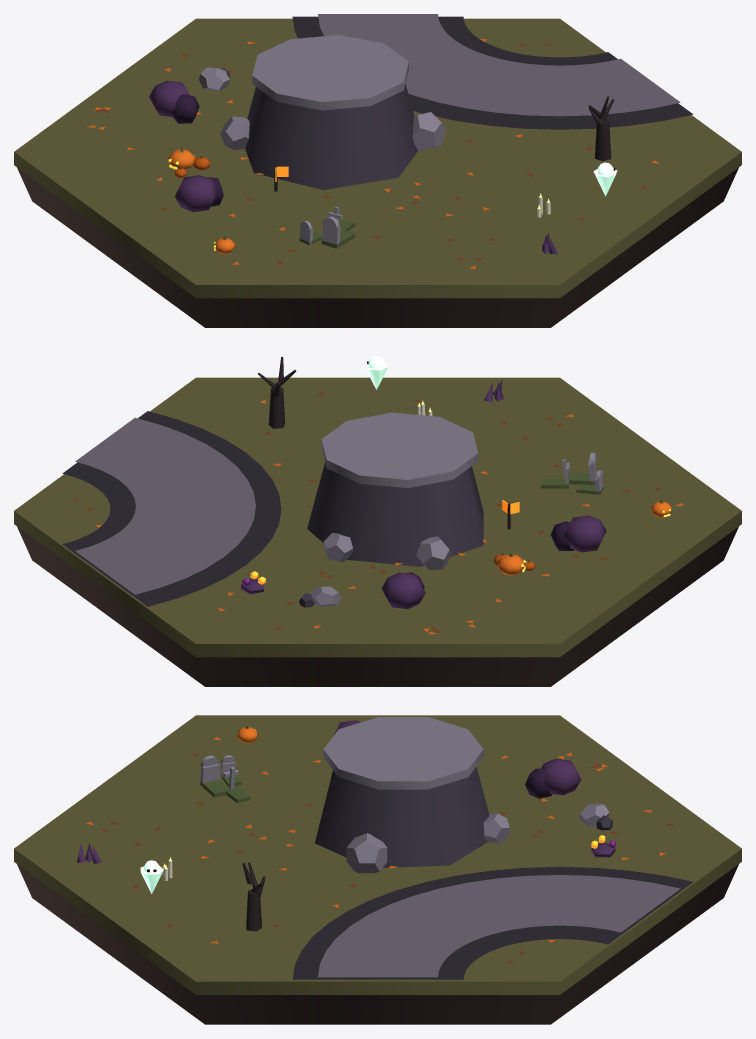
Rendered from tile_warBend.glb.
3 renders of one model, top to bottom at view 1: azimuth 30°, elevation 25°; view 2: azimuth 150°, elevation 25°; view 3: azimuth 270°, elevation 25°, orthographic.
Visible parts, largest first — view 1: ground, road, ground_soil, tower_slot_1_outcrop, tower_slot_1_plate, tower_slot_1, deco_bush_0_a, deco_bush_5_a, deco_bush_5_b, deco_tree_3_trunk, deco_stone_2_a; view 2: ground, road, ground_soil, tower_slot_1_outcrop, tower_slot_1_plate, tower_slot_1, deco_bush_5_a, deco_bush_0_a, deco_tree_3_trunk; view 3: ground, road, ground_soil, tower_slot_1_outcrop, tower_slot_1_plate, tower_slot_1, deco_bush_5_a, deco_tree_3_trunk, deco_bush_5_b.
Part boxes in pixels (x1,y1,x2,y2): ground: [14, 18, 741, 298]; road: [292, 14, 693, 129]; ground_soil: [17, 167, 738, 327]; tower_slot_1_outcrop: [245, 83, 418, 189]; tower_slot_1_plate: [252, 35, 408, 110]; tower_slot_1: [220, 112, 445, 150]; deco_bush_0_a: [174, 175, 217, 212]; deco_bush_5_a: [149, 80, 189, 116]; deco_bush_5_b: [172, 94, 199, 123]; deco_tree_3_trunk: [594, 119, 611, 161]; deco_stone_2_a: [199, 67, 229, 90]; ground: [14, 377, 741, 657]; road: [62, 411, 281, 606]; ground_soil: [17, 526, 738, 686]; tower_slot_1_outcrop: [307, 462, 483, 566]; tower_slot_1_plate: [321, 412, 478, 487]; tower_slot_1: [323, 533, 451, 569]; deco_bush_5_a: [381, 572, 425, 608]; deco_bush_0_a: [563, 515, 606, 552]; deco_tree_3_trunk: [268, 387, 284, 428]; ground: [14, 715, 741, 994]; road: [292, 866, 692, 979]; ground_soil: [17, 864, 738, 1024]; tower_slot_1_outcrop: [315, 767, 489, 867]; tower_slot_1_plate: [323, 717, 483, 789]; tower_slot_1: [346, 813, 509, 873]; deco_bush_5_a: [541, 758, 581, 795]; deco_tree_3_trunk: [246, 890, 261, 931]; deco_bush_5_b: [525, 768, 552, 798].
Size of the model in its own units: 1.73 by 0.4 by 2.
